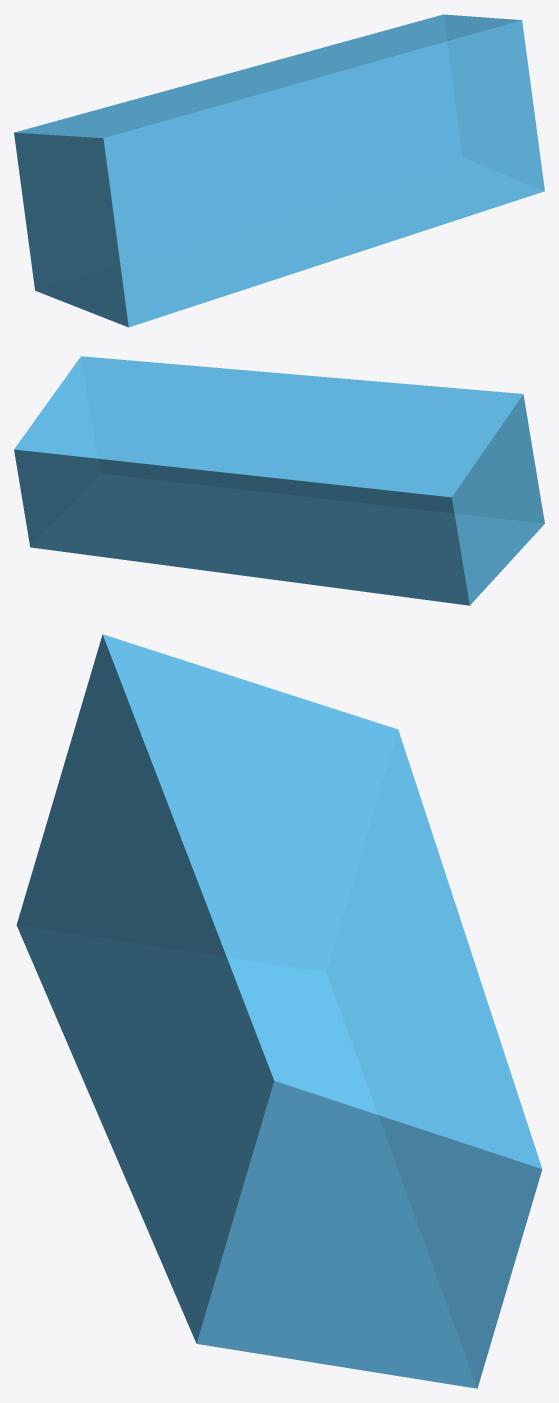
Rendered from Event_420094457_HErechit_16.fbx.
The picture shows the model from 3 angles, top to bottom: view 1: azimuth 30°, elevation 25°; view 2: azimuth 150°, elevation 25°; view 3: azimuth 270°, elevation 25°; orthographic projection. The views are drawn at different scales.
Visible parts, largest first — view 1: Model; view 2: Model; view 3: Model.
Part boxes in pixels (bbox=[...]): Model: bbox=[14, 14, 544, 327]; Model: bbox=[14, 356, 544, 605]; Model: bbox=[16, 634, 542, 1388].
Bounding box in the file's own units: 1.08 × 0.4701 × 0.6145.
